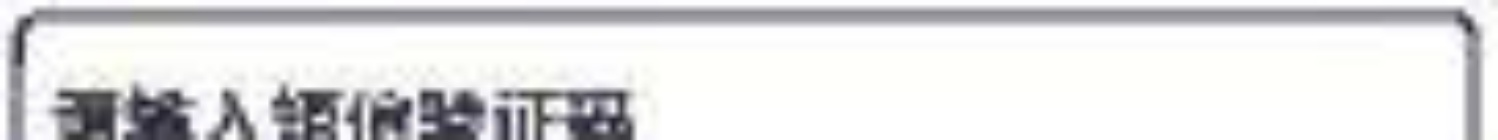EditText: (1, 1, 1497, 139)
